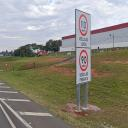speed_limit_110: (78, 14, 88, 36)
